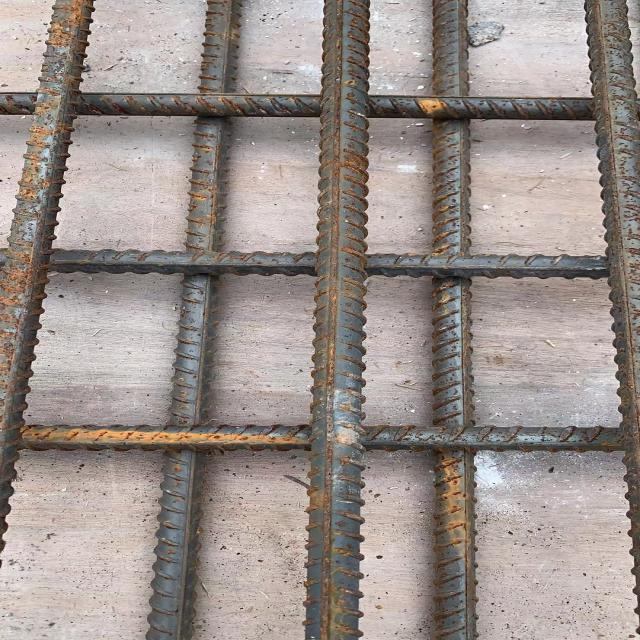ribbed bar: (140, 0, 244, 639), (0, 0, 95, 562), (300, 0, 373, 639), (581, 0, 639, 635), (429, 0, 477, 639), (0, 87, 600, 120), (23, 421, 618, 454), (55, 248, 612, 282)
